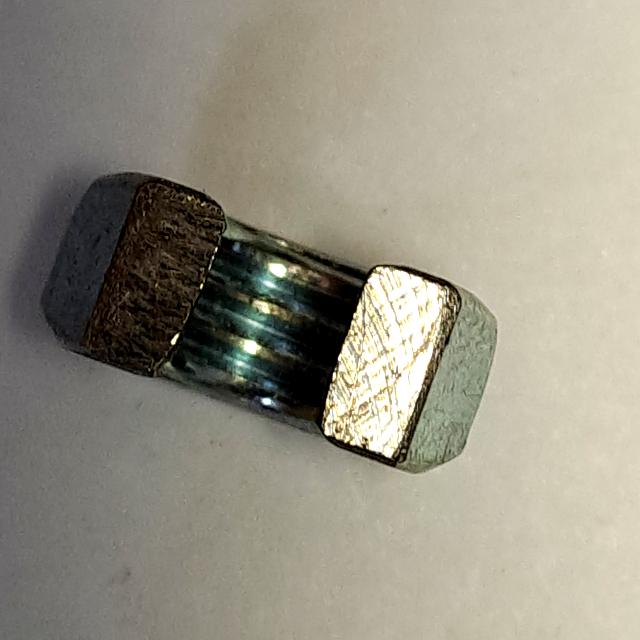Side-Fracture: (19, 154, 530, 503)
